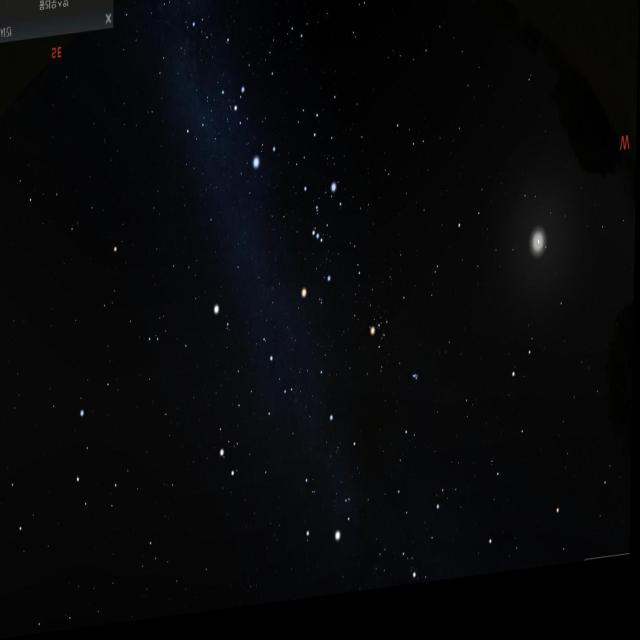canis_major: (228, 81, 281, 188)
canis_minor: (212, 300, 239, 342)
gemini: (217, 346, 291, 494)
moon: (530, 232, 549, 278)
orion: (302, 180, 341, 311)
pleiades: (411, 376, 420, 399)
taurus: (365, 307, 426, 420)
